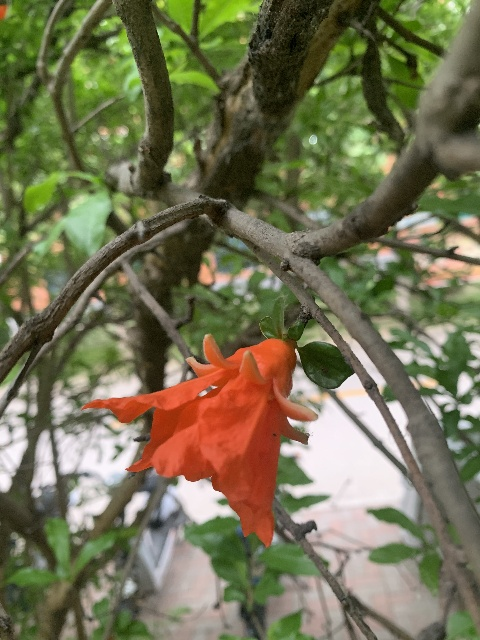flower: (81, 333, 316, 545)
